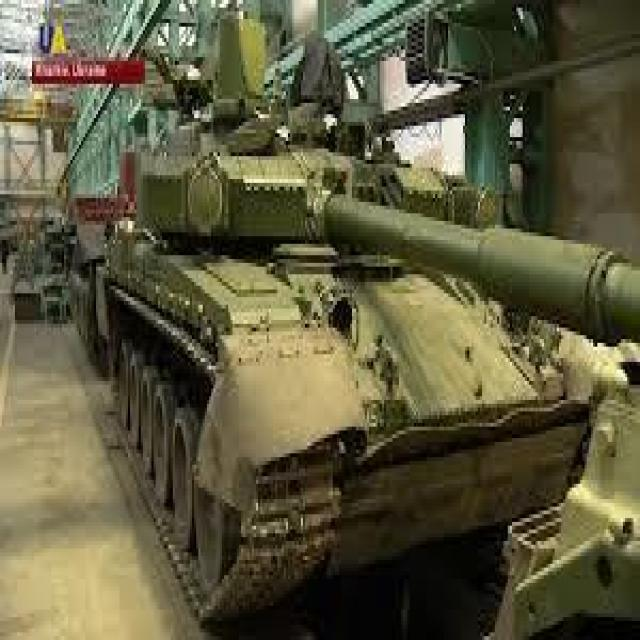Tanks: (90, 15, 634, 629)
